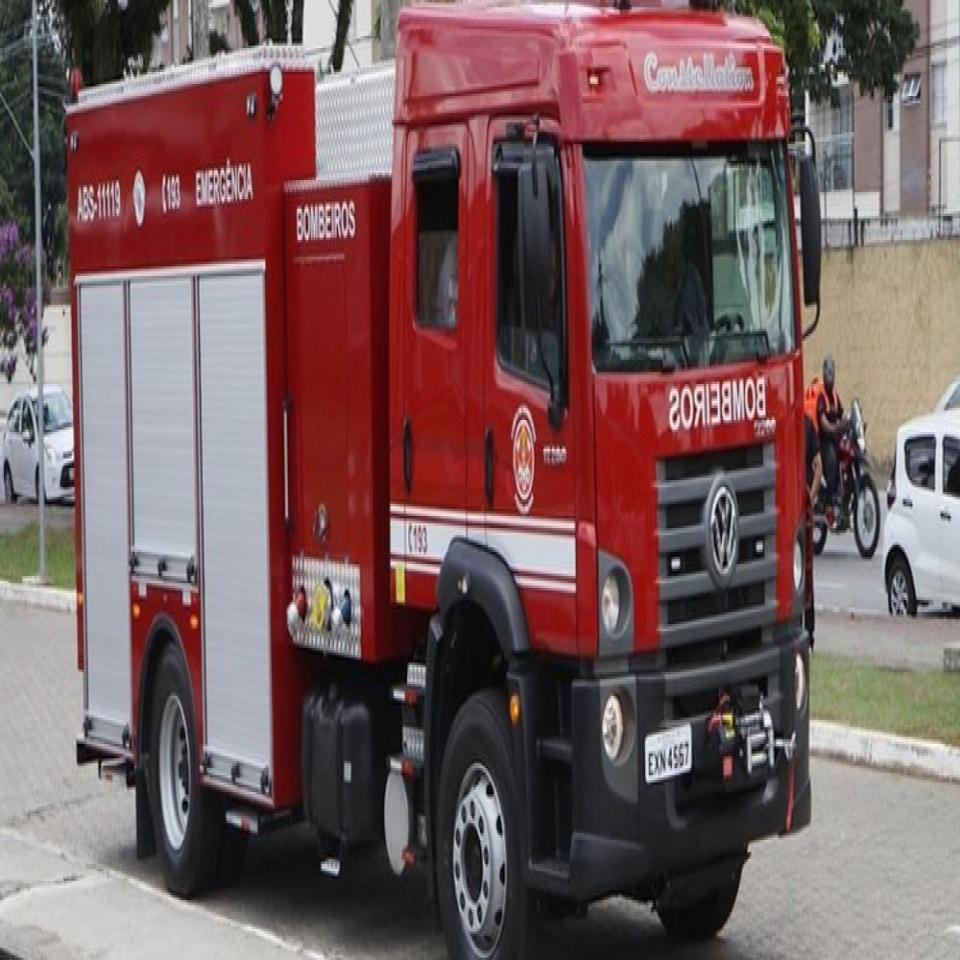viatura: (62, 0, 825, 960)
